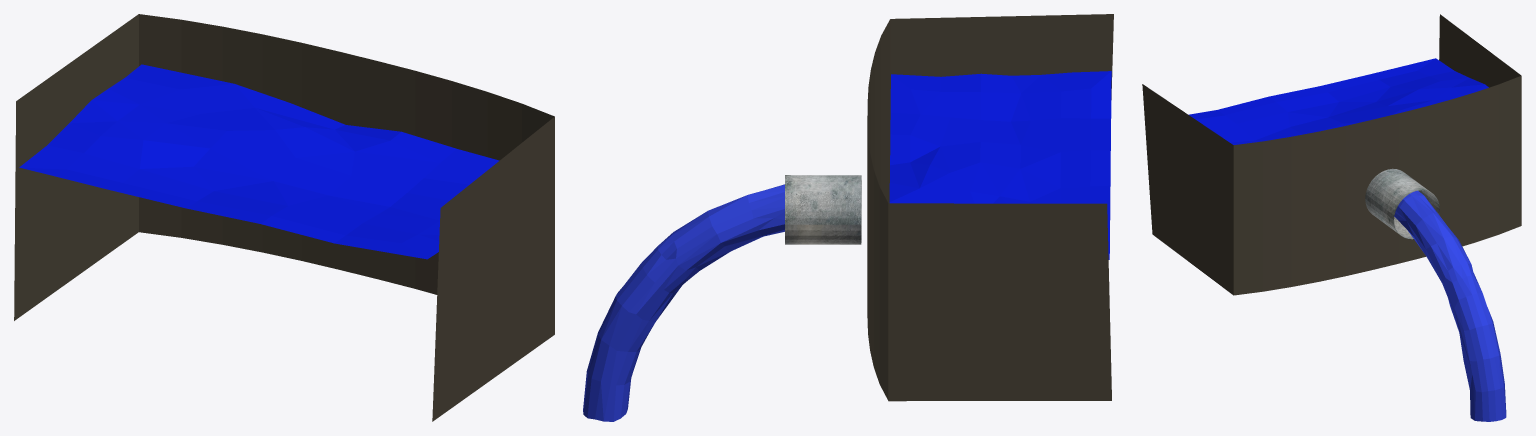
The model's file is wateranimation_test.gltf.
3 renders of one model, left to right at view 1: azimuth 30°, elevation 25°; view 2: azimuth 150°, elevation 25°; view 3: azimuth 270°, elevation 25°, orthographic. The views are drawn at different scales.
Visible parts, largest first — view 1: tank, watentank; view 2: tank, watentank, Cylinder, waterrör; view 3: tank, watentank, Cylinder, waterrör.
Boxes of the visible parts, x1,y1,x2,y2 form: tank: (14,14,554,421); watentank: (19,64,499,259); tank: (867,14,1113,401); watentank: (889,71,1111,259); Cylinder: (583,184,784,421); waterrör: (785,175,861,244); tank: (1142,14,1521,295); watentank: (1188,58,1488,144); Cylinder: (1394,190,1506,421); waterrör: (1365,168,1439,239).
Size of what is drawn, in the model's own units: 0.6616 by 0.3859 by 0.5808.
Materials: 4 (1 with a texture image).
